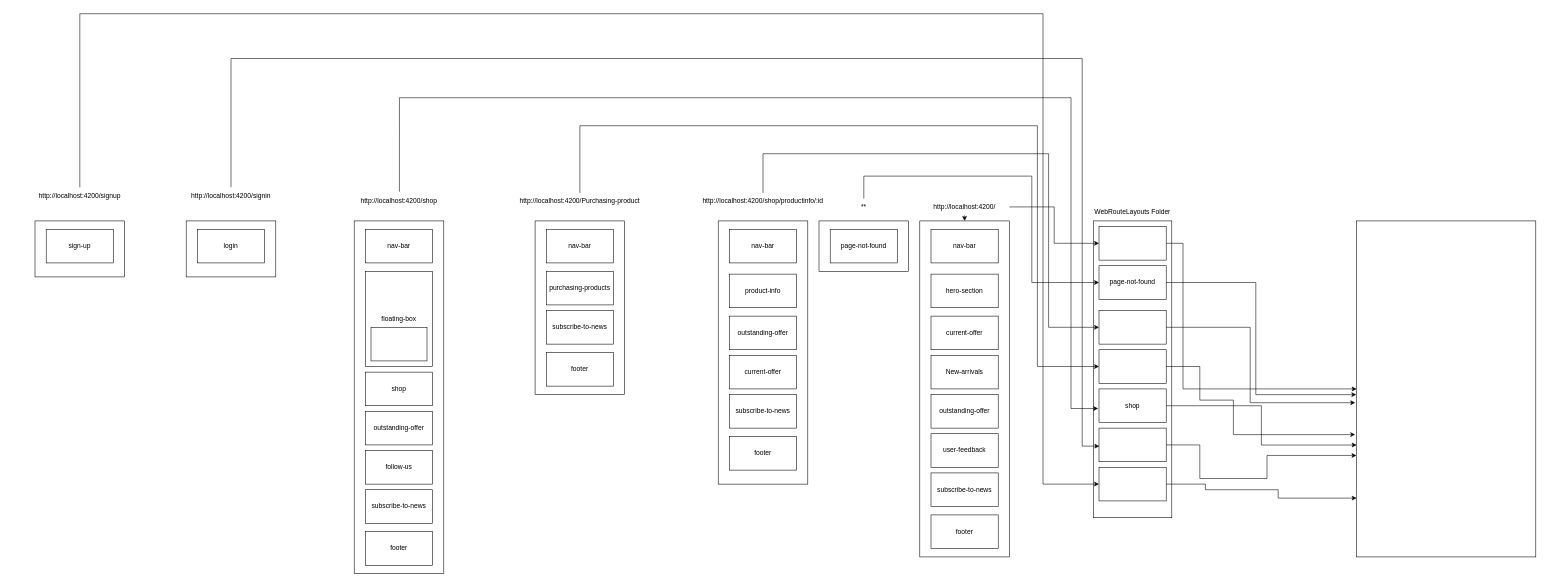
This 1546x584 diagram has some shape labels left out. The box of each missing label's shape, as (x1, y1, x2, y2) in pixels:
arrw-up-button: (370, 327, 427, 361)
home: (1098, 226, 1166, 260)
main web page: (1356, 220, 1536, 557)
productinfo: (1098, 310, 1166, 344)
purchasingproducts: (1098, 349, 1166, 383)
signin: (1098, 428, 1166, 462)
signup: (1098, 467, 1166, 501)
